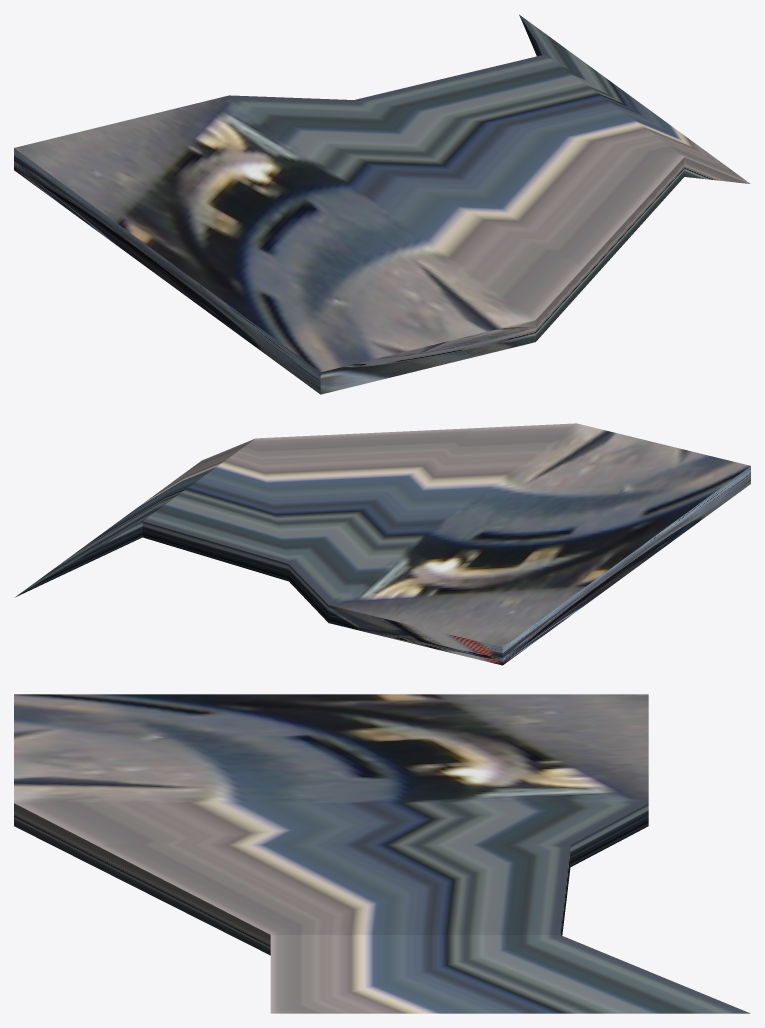
3 views of the same model, one above another, from view 1: azimuth 30°, elevation 25°; view 2: azimuth 150°, elevation 25°; view 3: azimuth 270°, elevation 25° (orthographic). The views are drawn at different scales.
Visible parts, largest first — view 1: Wing-3.001_Cube.020; view 2: Wing-3.001_Cube.020; view 3: Wing-3.001_Cube.020.
Boxes of the visible parts, box(x1,y1,x2,y2) form: Wing-3.001_Cube.020: box(14, 14, 750, 394); Wing-3.001_Cube.020: box(15, 423, 750, 665); Wing-3.001_Cube.020: box(14, 694, 750, 1013).
Size of the model in its own units: 5.76 by 0.4323 by 6.4.
